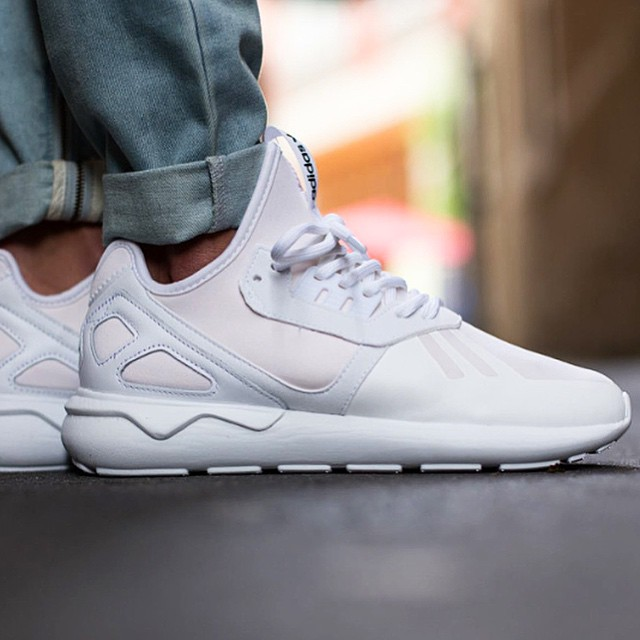sneaker: (50, 99, 640, 490), (1, 186, 107, 488)
